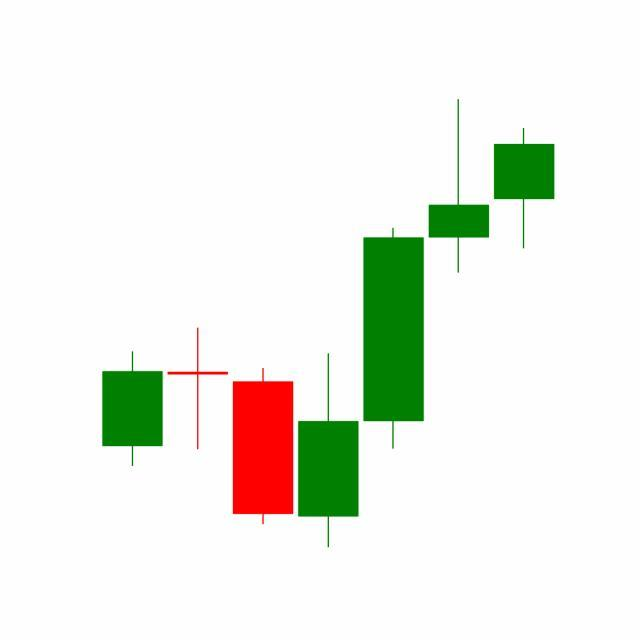Advance Block: (360, 99, 556, 454)
